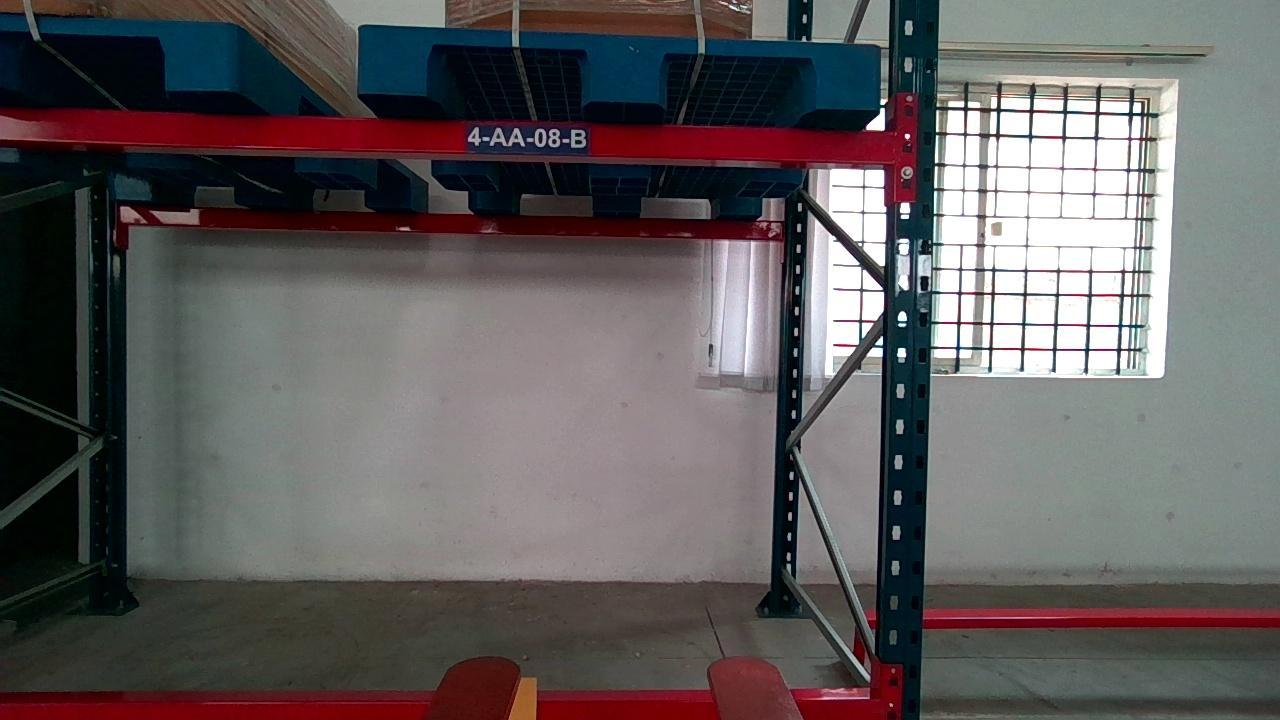h_rack: (0, 102, 894, 163), (2, 696, 879, 720)
small_pallet: (355, 26, 879, 107), (0, 14, 243, 91)
